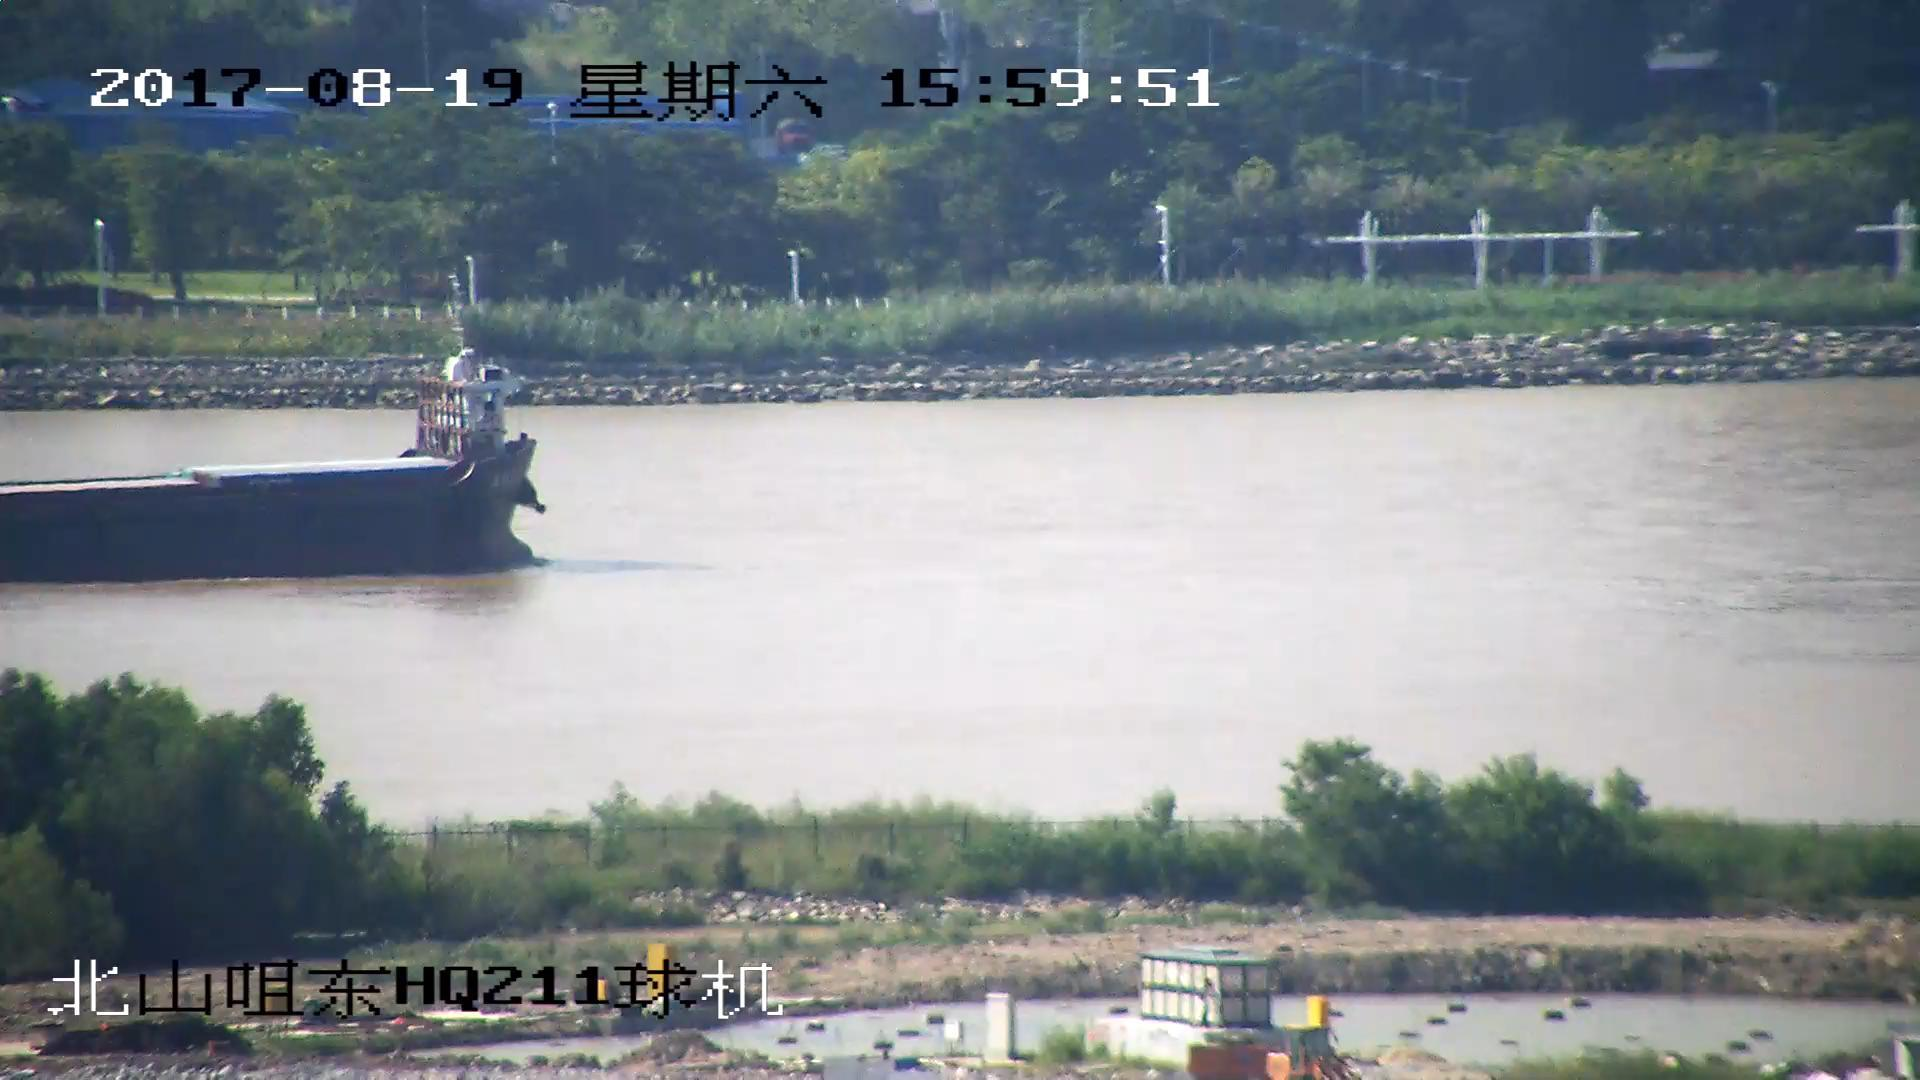Ship: (3, 316, 559, 584)
